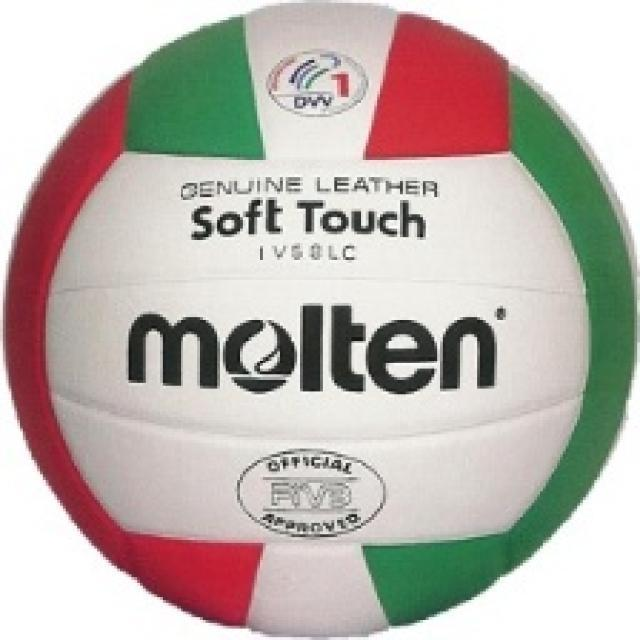volleyball: (3, 1, 638, 639)
